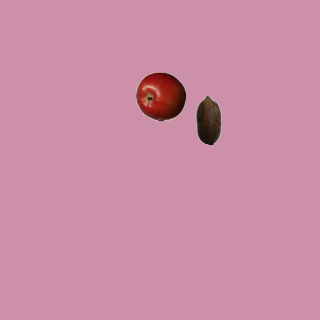Apple Braeburn: (135, 71, 185, 121)
Nut Pecan: (183, 94, 233, 144)
